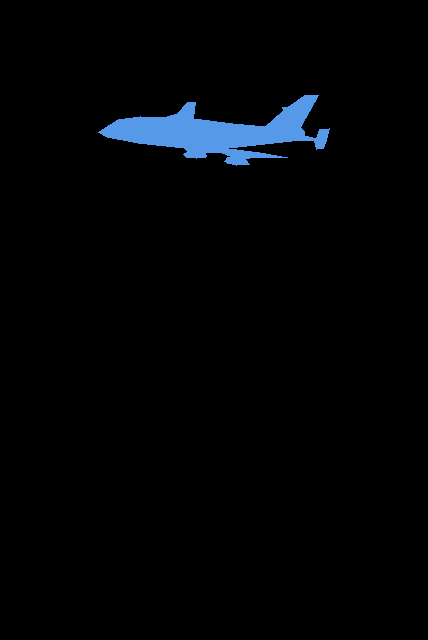Airplane: (98, 95, 329, 165)
